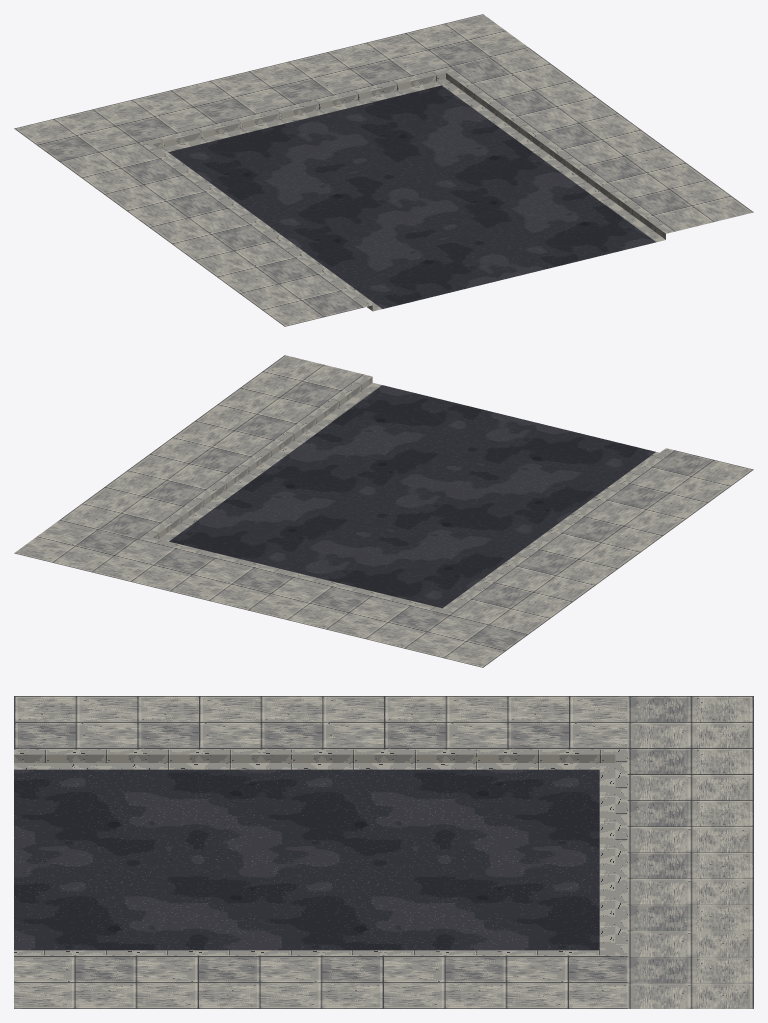
Rendered from RD_DeadEnd_12m.obj.
The picture shows the model from 3 angles, top to bottom: view 1: azimuth 30°, elevation 25°; view 2: azimuth 150°, elevation 25°; view 3: azimuth 270°, elevation 25°; orthographic projection. The views are drawn at different scales.
Visible parts, largest first — view 1: RD_DeadEnd_12m_Mesh_M_Road_Asphalt, RD_DeadEnd_12m_Mesh_M_Road_SidewalkConcrete, RD_DeadEnd_12m_Mesh_M_Road_CurbConcrete; view 2: RD_DeadEnd_12m_Mesh_M_Road_Asphalt, RD_DeadEnd_12m_Mesh_M_Road_SidewalkConcrete, RD_DeadEnd_12m_Mesh_M_Road_CurbConcrete; view 3: RD_DeadEnd_12m_Mesh_M_Road_Asphalt, RD_DeadEnd_12m_Mesh_M_Road_SidewalkConcrete, RD_DeadEnd_12m_Mesh_M_Road_CurbConcrete.
Boxes of the visible parts, bbox=[...] form: RD_DeadEnd_12m_Mesh_M_Road_Asphalt: bbox=[168, 85, 655, 308]; RD_DeadEnd_12m_Mesh_M_Road_SidewalkConcrete: bbox=[14, 14, 753, 326]; RD_DeadEnd_12m_Mesh_M_Road_CurbConcrete: bbox=[141, 67, 673, 311]; RD_DeadEnd_12m_Mesh_M_Road_Asphalt: bbox=[169, 385, 655, 608]; RD_DeadEnd_12m_Mesh_M_Road_SidewalkConcrete: bbox=[14, 355, 753, 667]; RD_DeadEnd_12m_Mesh_M_Road_CurbConcrete: bbox=[141, 374, 673, 614]; RD_DeadEnd_12m_Mesh_M_Road_Asphalt: bbox=[14, 769, 599, 950]; RD_DeadEnd_12m_Mesh_M_Road_SidewalkConcrete: bbox=[14, 696, 753, 1008]; RD_DeadEnd_12m_Mesh_M_Road_CurbConcrete: bbox=[14, 749, 627, 955].
Size of the model in its own units: 12 by 0.15 by 12.
Materials: 3 (3 with a texture image).
